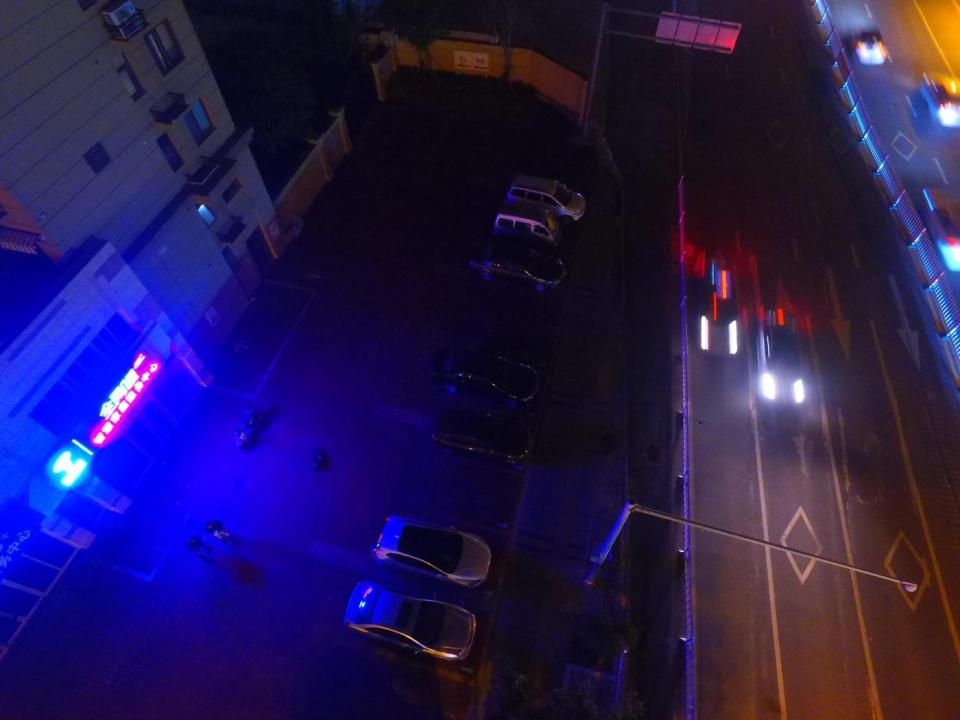car: (342, 579, 476, 663), (371, 512, 492, 590), (431, 345, 544, 411), (753, 304, 810, 420), (470, 235, 567, 297), (432, 405, 532, 462), (696, 259, 742, 362), (504, 171, 586, 221), (919, 183, 960, 276), (834, 0, 892, 63), (915, 70, 960, 127)
van: (489, 201, 565, 246)
